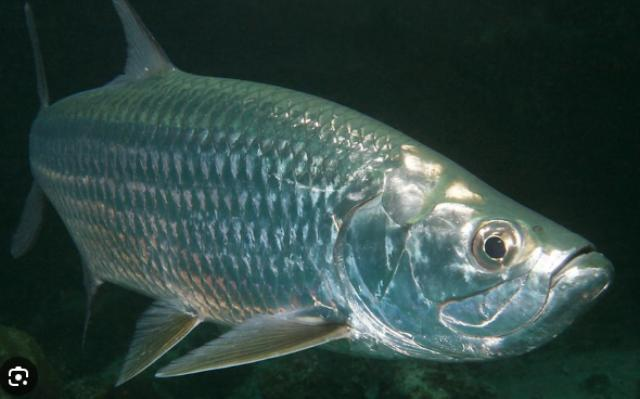Mulut: (523, 212, 623, 326)
Sirip Anal: (59, 246, 125, 364)
Sirip Dada: (144, 308, 363, 386)
Sirip Ekor: (5, 1, 76, 296)
Sirip Perut: (109, 286, 203, 394)
Sirip Punggung: (99, 0, 190, 100)
